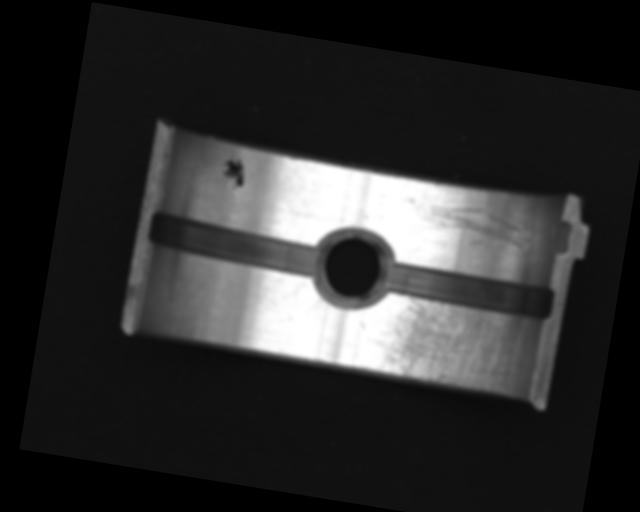blot: (217, 154, 248, 191)
gap: (141, 207, 328, 279), (380, 258, 557, 321)
hole: (309, 228, 397, 310)
nick: (397, 192, 530, 255), (294, 291, 325, 328)
scratch: (358, 289, 532, 398)
